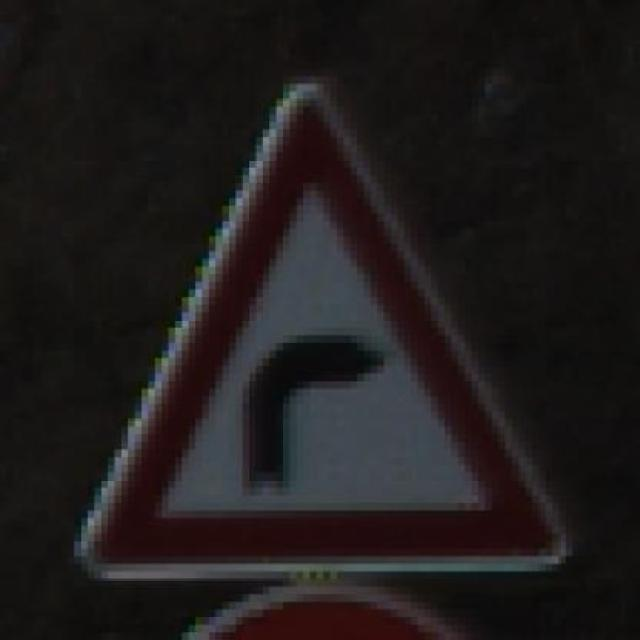Dangerous Rright Curve Ahead: (47, 68, 587, 594)
